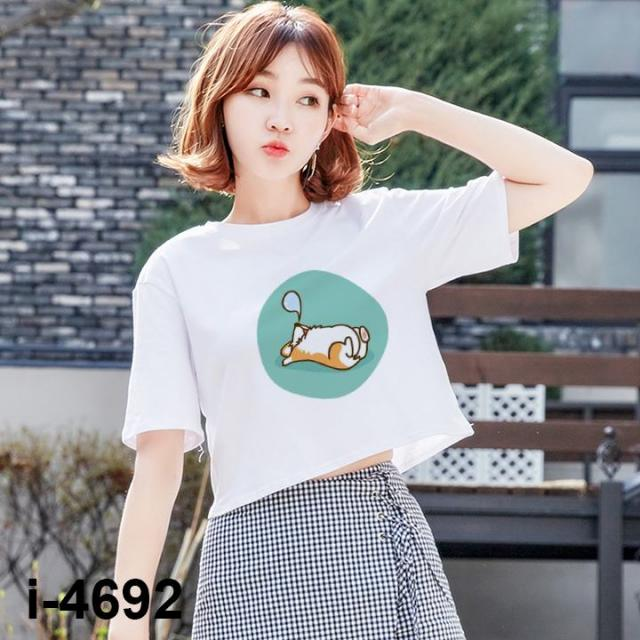clothes: (110, 169, 511, 640)
